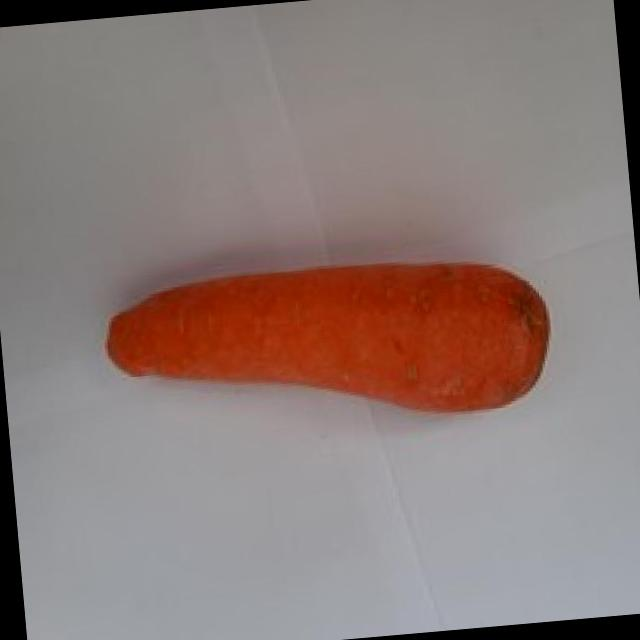carrot: (106, 264, 548, 413)
